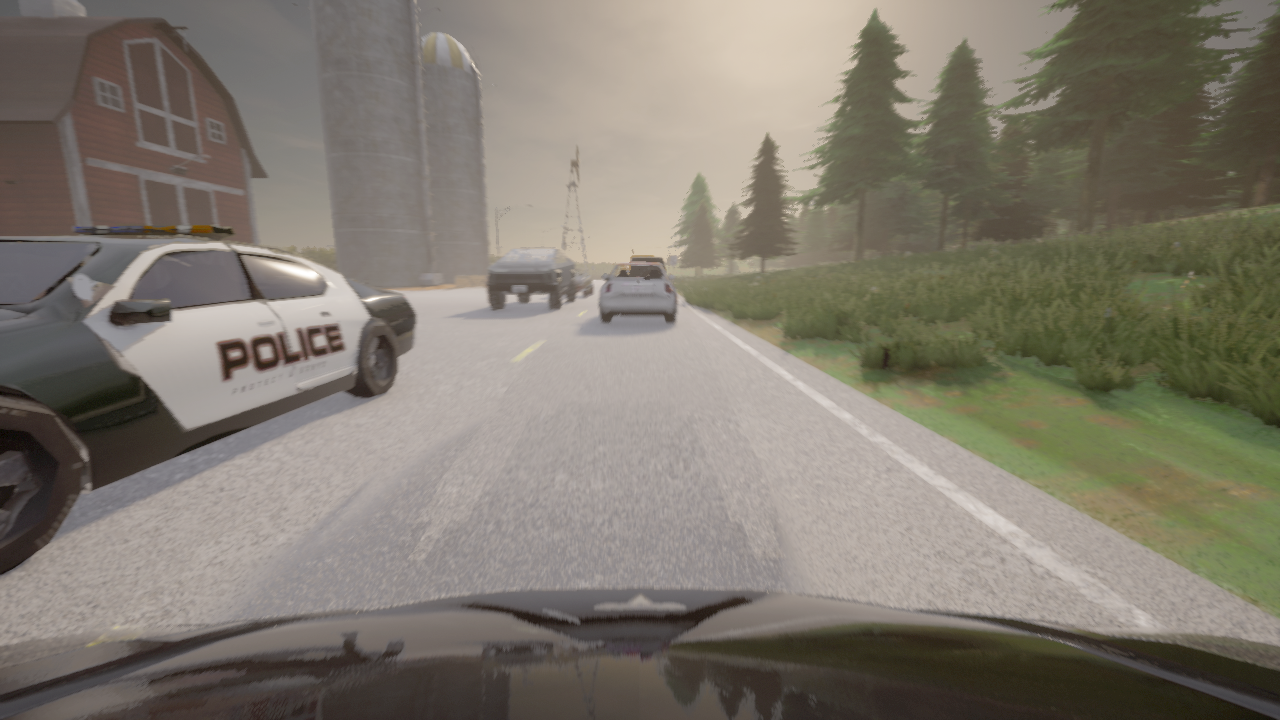cyclist: (0, 588, 1279, 719), (0, 225, 415, 576), (486, 248, 576, 309), (599, 262, 676, 323), (563, 268, 592, 297), (630, 256, 665, 272)
